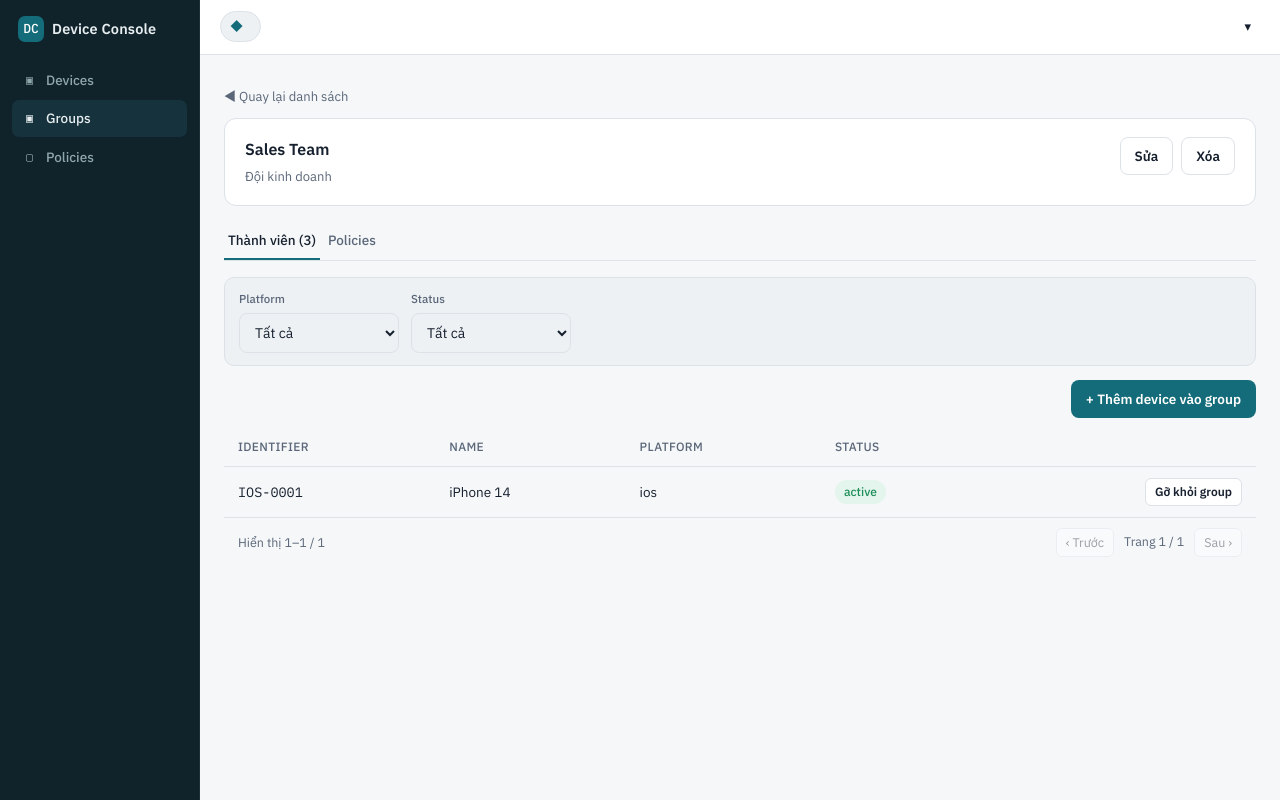
Scenario: GroupDetailView › header: edit and delete › keeps the delete dialog open on a 500 so the user can retry
Click the button with test id "group-detail-delete-button" at (1208, 156), box [1181, 137, 1235, 175]
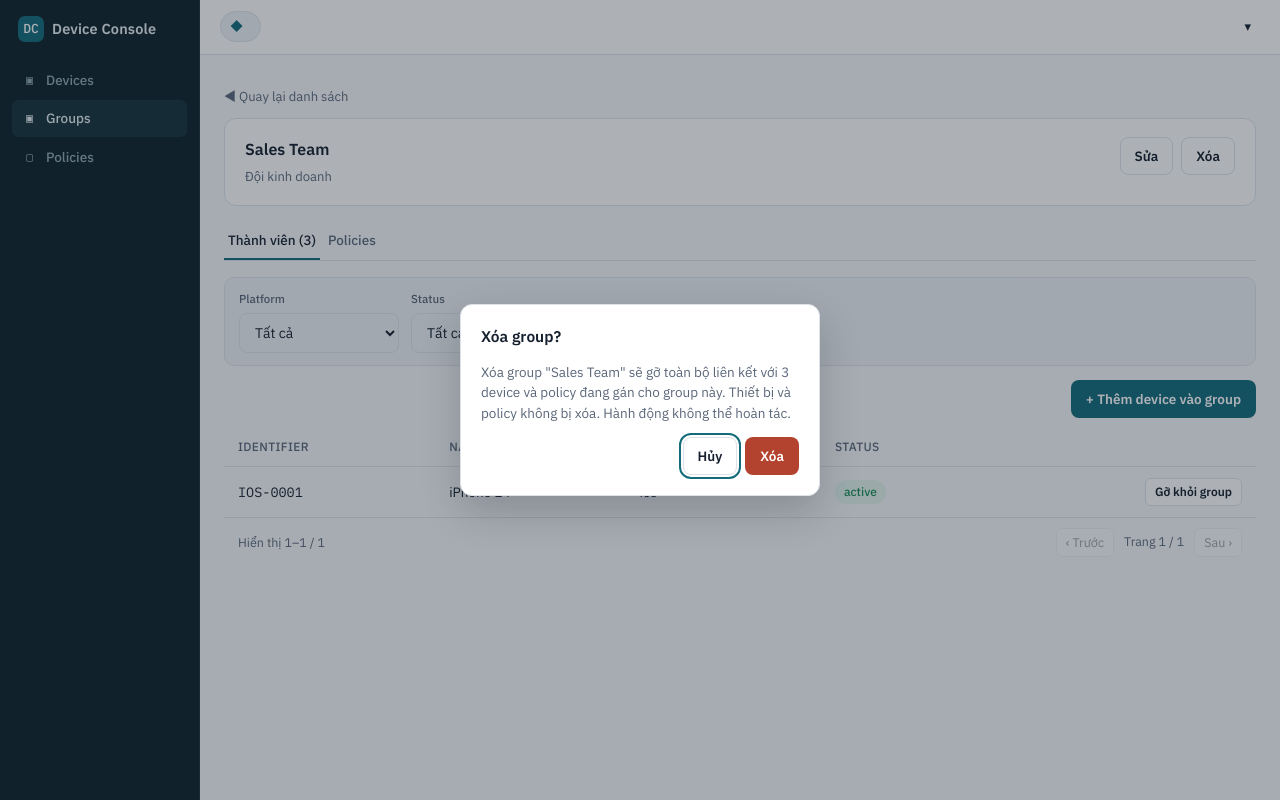
Click the button with test id "confirm-modal-confirm" at (772, 456), box [745, 437, 799, 475]
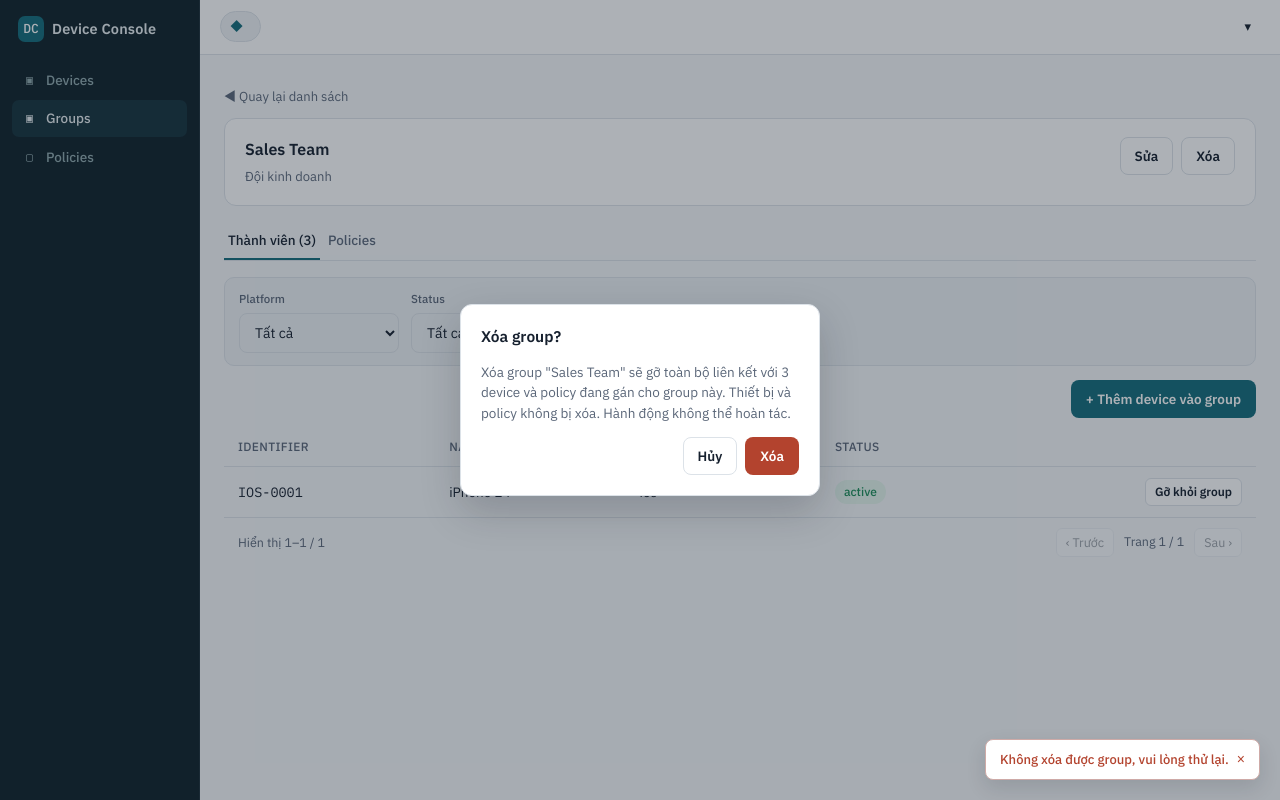
Expected: the dialog with test id "confirm-modal" is shown
Expected: the element with test id "toast" shows "Không xóa được group, vui lòng thử lại.", [1000, 750, 1229, 768]
